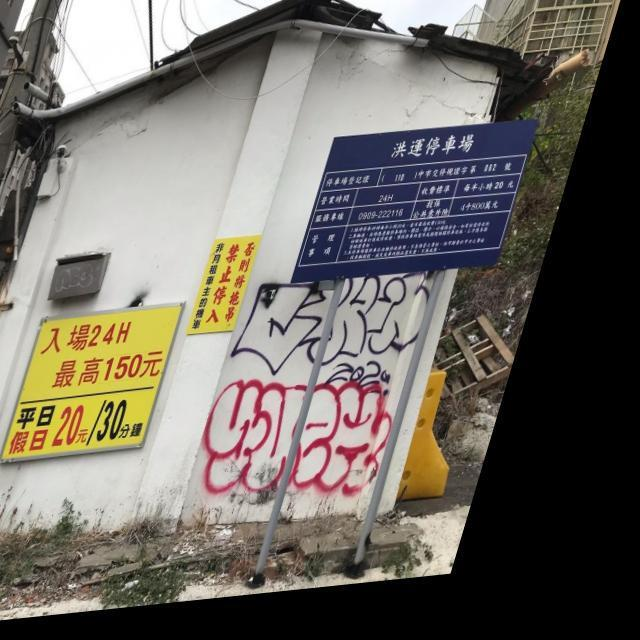-: (212, 367, 440, 526), (248, 266, 462, 394)
